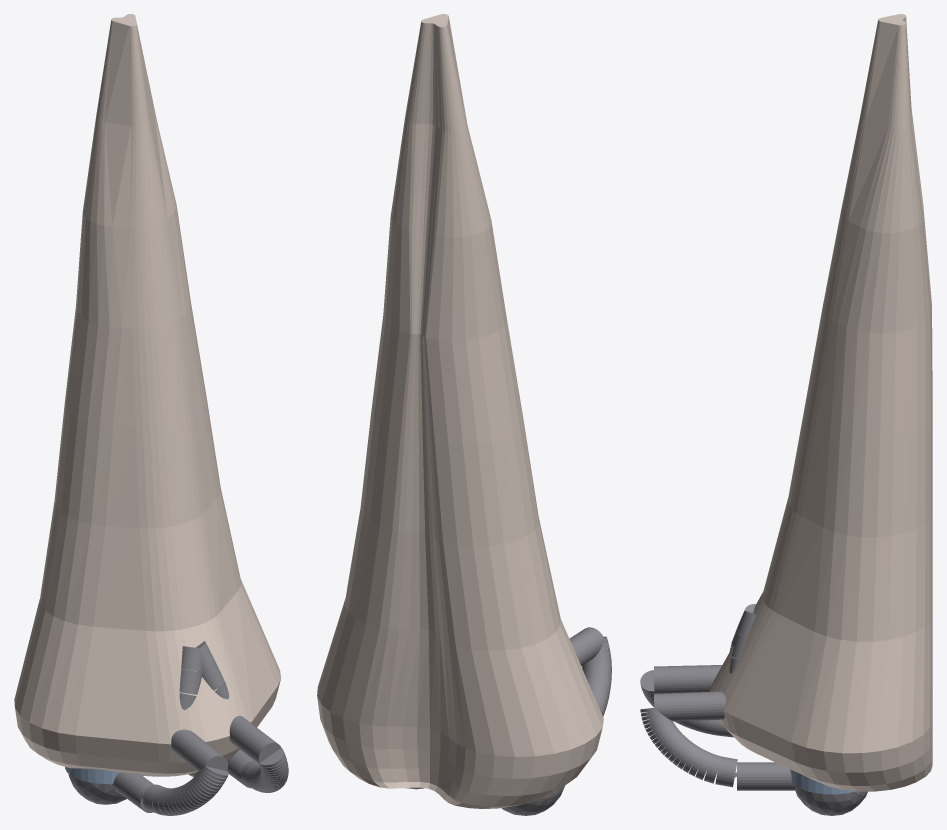
3 views of the same model, side by side, from view 1: azimuth 30°, elevation 25°; view 2: azimuth 150°, elevation 25°; view 3: azimuth 270°, elevation 25° (orthographic). The views are drawn at different scales.
Parts seen in each view (by area): view 1: body, frame_left, frame_right, plug_left; view 2: body, frame_left; view 3: body, frame_right, frame_left, plug_right.
Part boxes in pixels (box(x1,y1,x2,y2)): body: box(14, 14, 280, 776); frame_left: box(68, 646, 228, 815); frame_right: box(188, 641, 288, 792); plug_left: box(65, 767, 119, 783); body: box(317, 14, 603, 808); frame_left: box(501, 627, 611, 815); body: box(709, 14, 932, 791); frame_right: box(640, 610, 867, 815); frame_left: box(640, 604, 755, 737); plug_right: box(790, 769, 855, 794).
Bounding box in the file's own units: 20.49 × 59.6 × 20.58.
